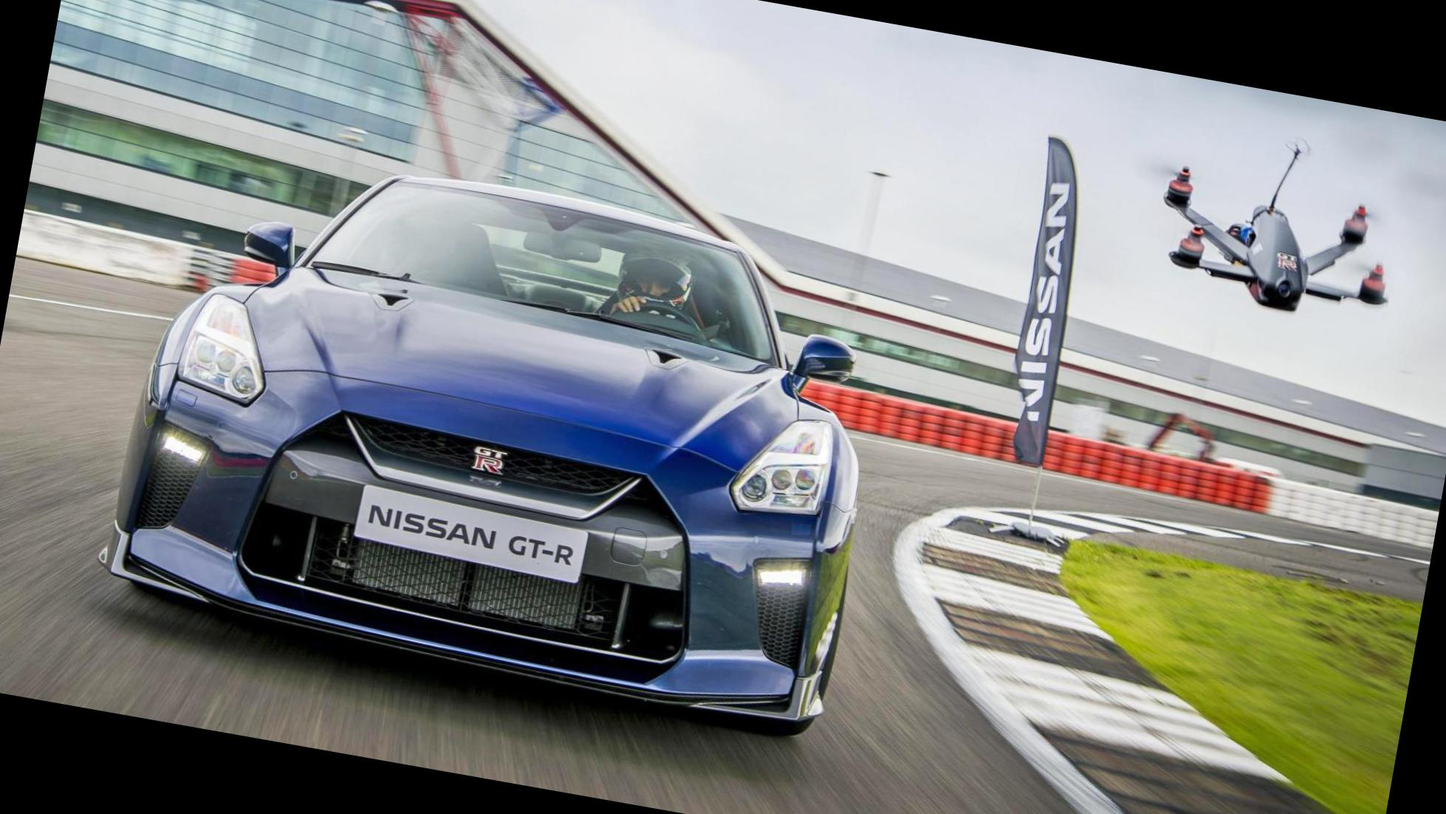drone: (1119, 134, 1442, 353)
